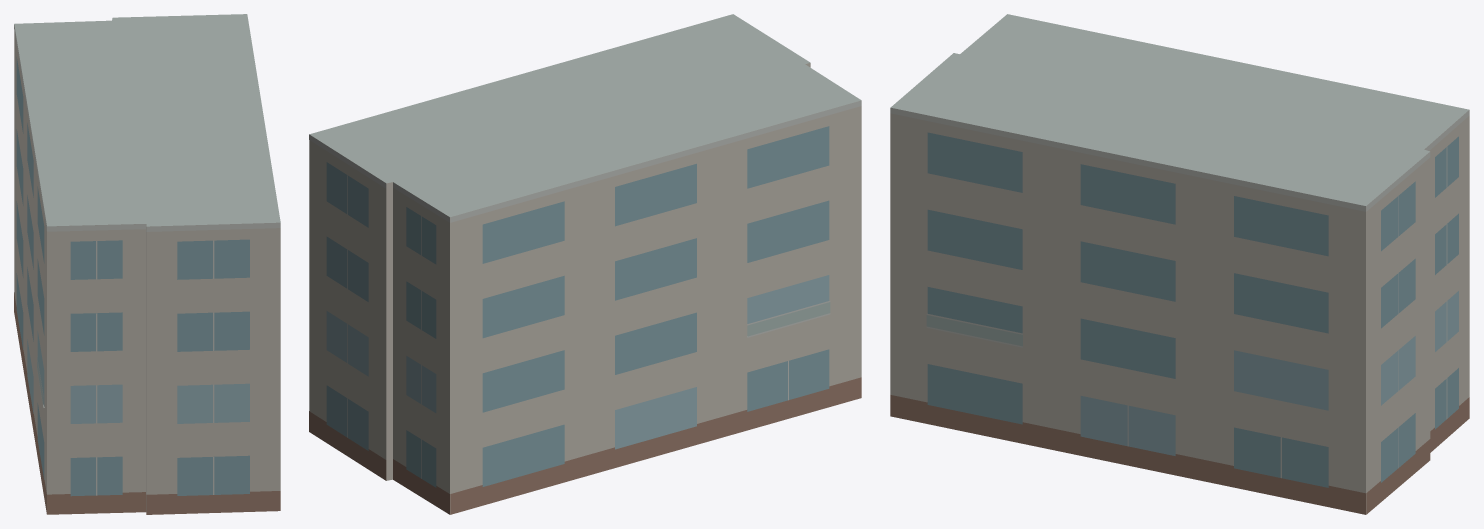
The model's file is survey-upis-32927008.glb.
The picture shows the model from 3 angles, left to right: view 1: azimuth 30°, elevation 25°; view 2: azimuth 150°, elevation 25°; view 3: azimuth 270°, elevation 25°; orthographic projection. The views are drawn at different scales.
Visible parts, largest first — view 1: survey-upis-32927008.tmp; view 2: survey-upis-32927008.tmp; view 3: survey-upis-32927008.tmp.
Part boxes in pixels (x1=…): survey-upis-32927008.tmp: x1=14, y1=14, x2=280, y2=514; survey-upis-32927008.tmp: x1=309, y1=14, x2=861, y2=514; survey-upis-32927008.tmp: x1=890, y1=14, x2=1469, y2=514.
Bounding box in the file's own units: 17.5 × 13.1 × 22.28.
